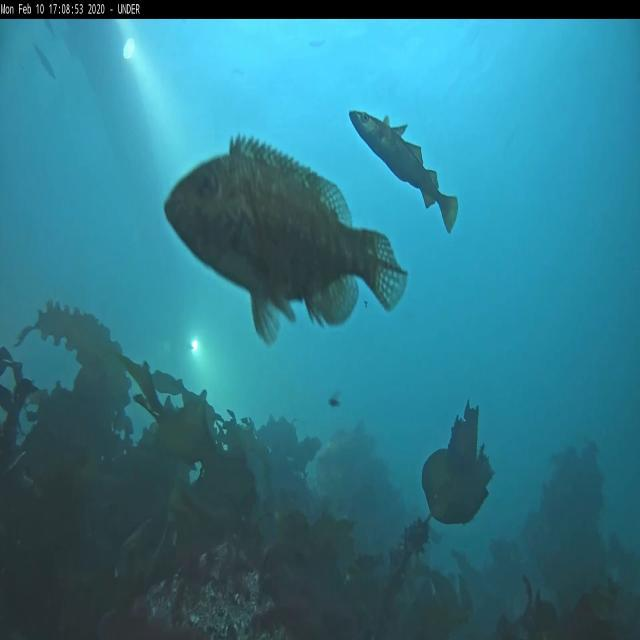fish: (165, 134, 406, 346), (348, 109, 459, 235), (32, 43, 54, 80)
